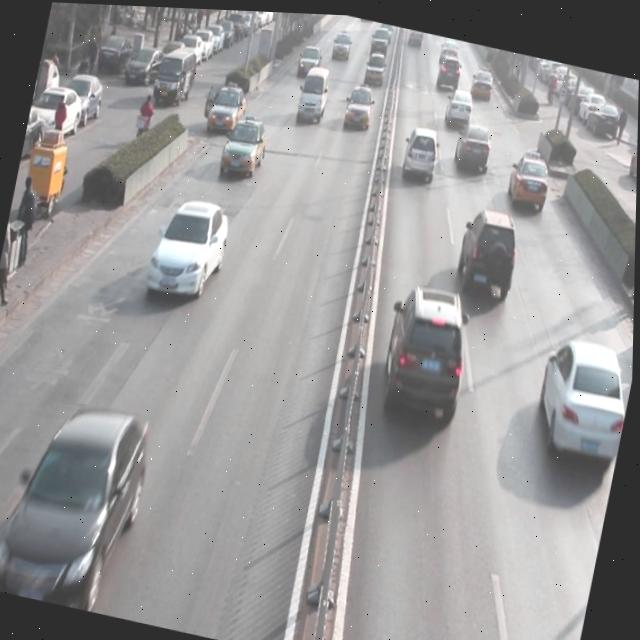car: (0, 397, 154, 602), (527, 326, 635, 471), (376, 275, 481, 423), (147, 191, 234, 304), (454, 199, 527, 302), (504, 142, 557, 211), (219, 111, 270, 180), (400, 121, 444, 185), (451, 113, 496, 173), (205, 78, 249, 134), (341, 79, 377, 130), (444, 82, 476, 125), (434, 48, 464, 91), (469, 58, 497, 98), (295, 38, 323, 77), (363, 46, 388, 83), (329, 26, 353, 62)
truck: (293, 59, 333, 127)
